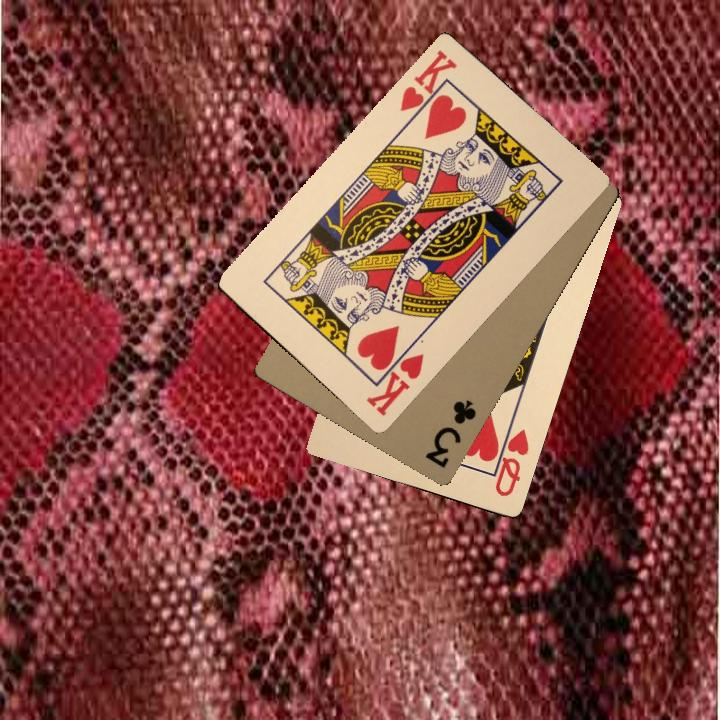3c: (421, 395, 479, 471)
Kh: (362, 339, 427, 419), (395, 45, 460, 123)
Qh: (488, 420, 532, 499)
